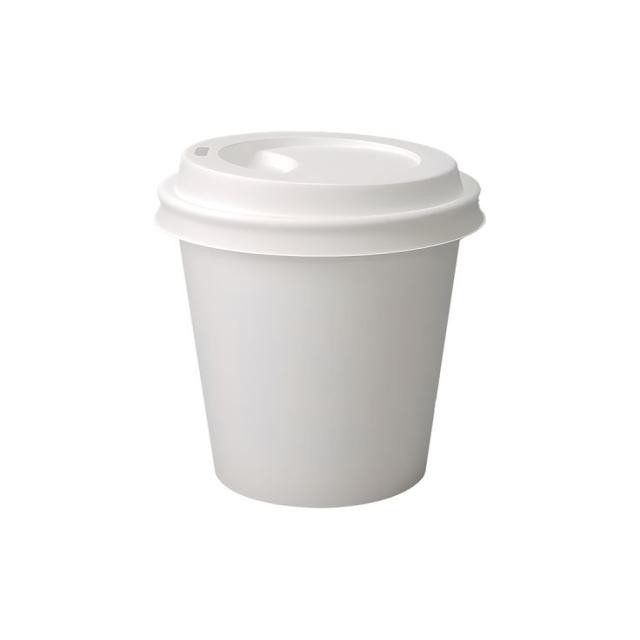paper cup: (154, 130, 487, 506)
